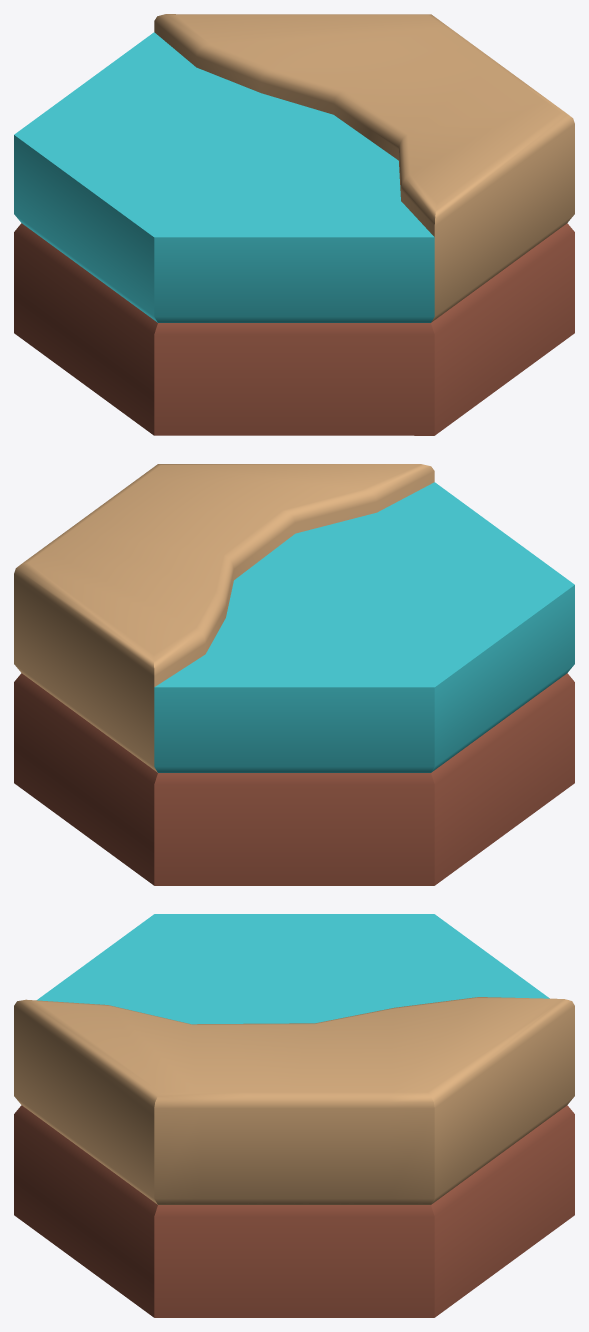
File: kaykit-hex-sand-waterc-detail.glb
The picture shows the model from 3 angles, top to bottom: view 1: azimuth 30°, elevation 25°; view 2: azimuth 150°, elevation 25°; view 3: azimuth 270°, elevation 25°; orthographic projection.
Parts seen in each view (by area): view 1: hex_sand_waterC_detail; view 2: hex_sand_waterC_detail; view 3: hex_sand_waterC_detail.
Part boxes in pixels (x1,y1,x2,y2): hex_sand_waterC_detail: (14, 14, 574, 435); hex_sand_waterC_detail: (14, 464, 574, 885); hex_sand_waterC_detail: (14, 914, 574, 1317).
Size of the model in its own units: 2 by 1 by 2.31.
